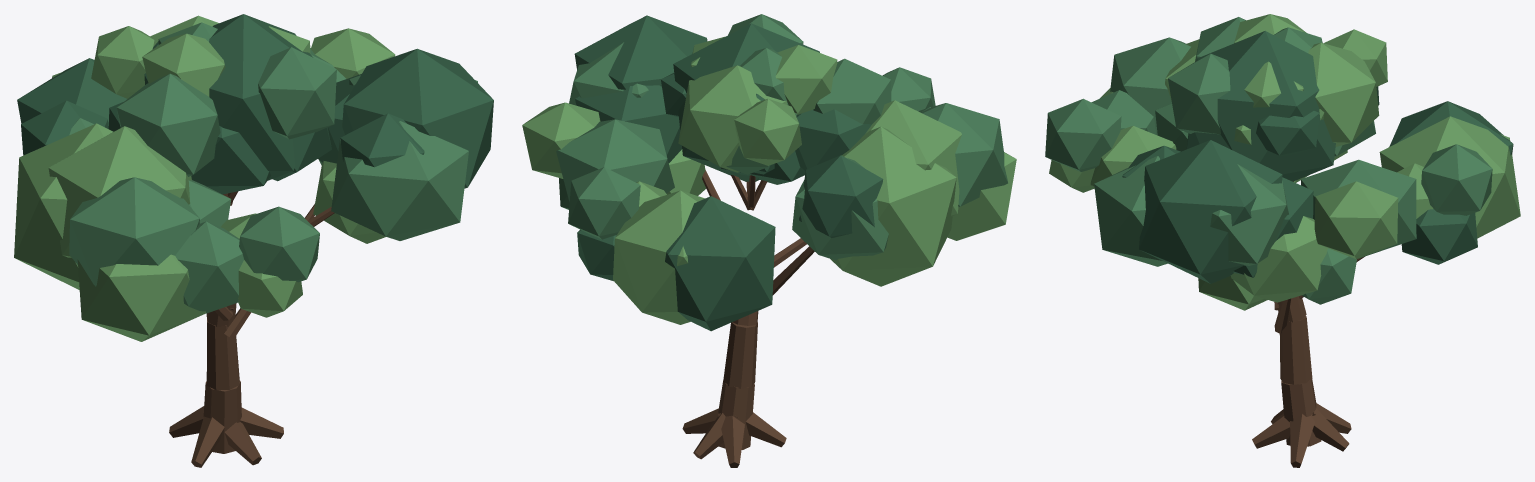
Rendered from arbre_erable.glb.
The picture shows the model from 3 angles, left to right: view 1: azimuth 30°, elevation 25°; view 2: azimuth 150°, elevation 25°; view 3: azimuth 270°, elevation 25°; orthographic projection. The views are drawn at different scales.
Visible parts, largest first — view 1: arbre_erable; view 2: arbre_erable; view 3: arbre_erable.
Part boxes in pixels (x1,y1,x2,y2): arbre_erable: (14,14,493,467); arbre_erable: (522,14,1016,467); arbre_erable: (1045,14,1520,467).
Size of the model in its own units: 7.81 by 7.75 by 8.08.
